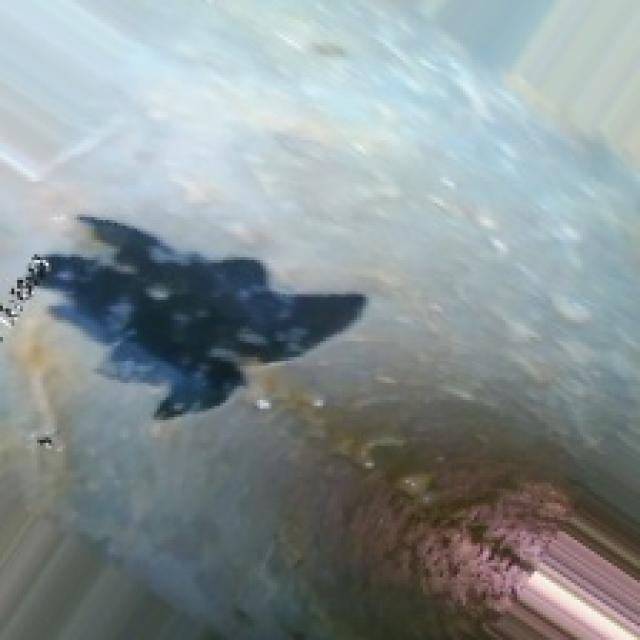pipe_surface_damage: (29, 206, 368, 417)
